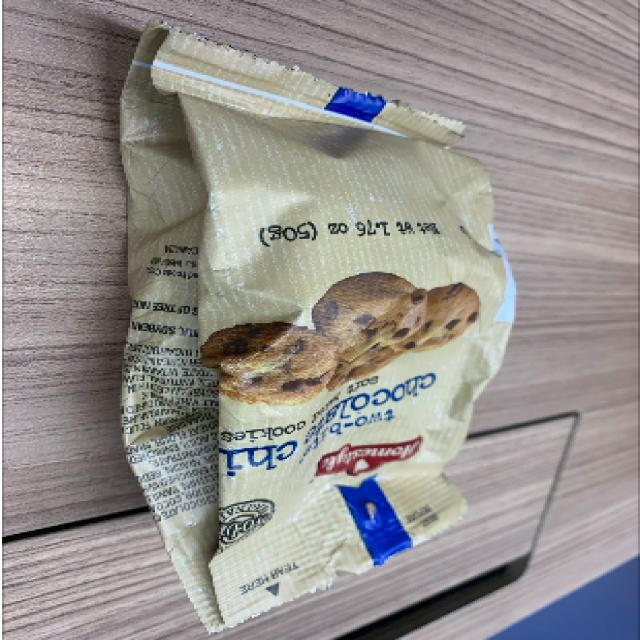object_name: (141, 65, 472, 550)
